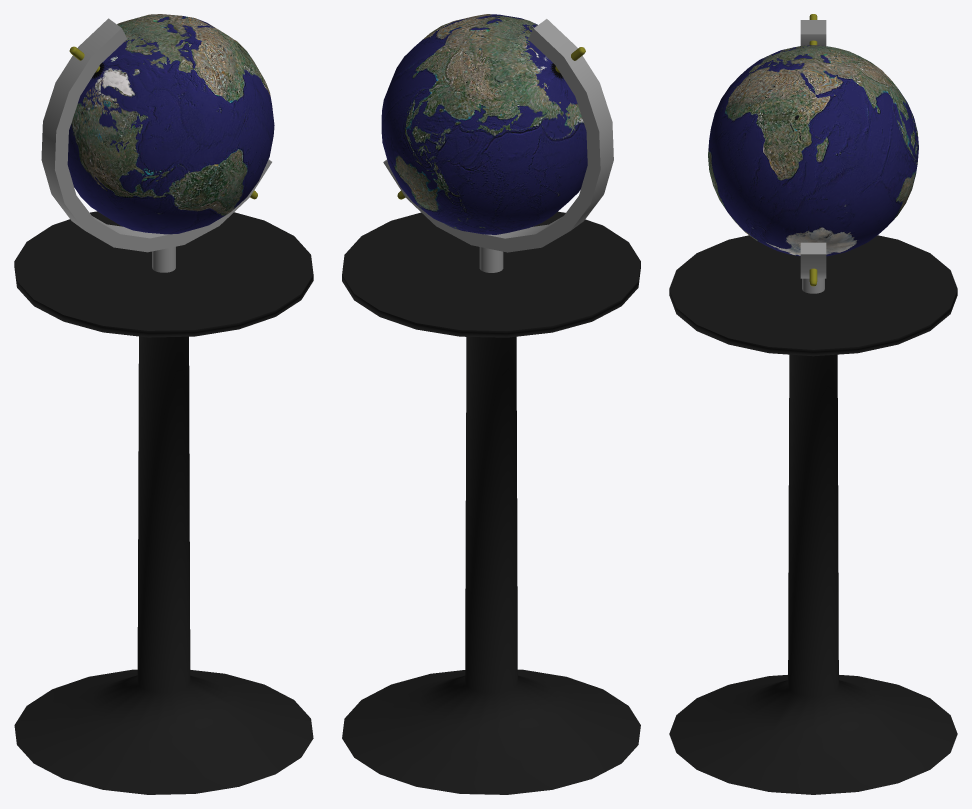
The model's file is globe.fbx.
The picture shows the model from 3 angles, left to right: view 1: azimuth 30°, elevation 25°; view 2: azimuth 150°, elevation 25°; view 3: azimuth 270°, elevation 25°; orthographic projection. The views are drawn at different scales.
Parts seen in each view (by area): view 1: stand, globe, halter, podest; view 2: stand, globe, halter, podest; view 3: stand, globe, halter.
Boxes of the visible parts, left/top/right/bottom form: stand: left=14, top=211, right=313, bottom=794; globe: left=67, top=14, right=274, bottom=234; halter: left=41, top=18, right=271, bottom=252; podest: left=152, top=246, right=175, bottom=272; stand: left=342, top=211, right=640, bottom=794; globe: left=381, top=14, right=587, bottom=234; halter: left=383, top=19, right=613, bottom=252; podest: left=479, top=247, right=503, bottom=272; stand: left=669, top=235, right=957, bottom=794; globe: left=708, top=45, right=918, bottom=256; halter: left=800, top=20, right=826, bottom=278.
Bounding box in the file's own units: 0.5855 × 1.55 × 0.5855.
4 materials, 1 textured.
